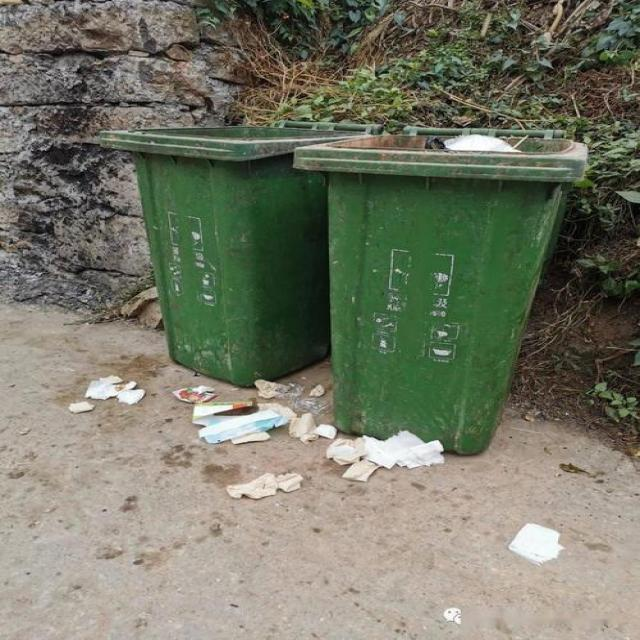garbage: (65, 373, 444, 498)
garbage_bin: (100, 118, 380, 386)
overflow: (293, 126, 588, 454)
